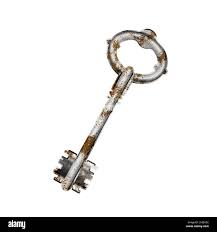key: (40, 23, 176, 194)
